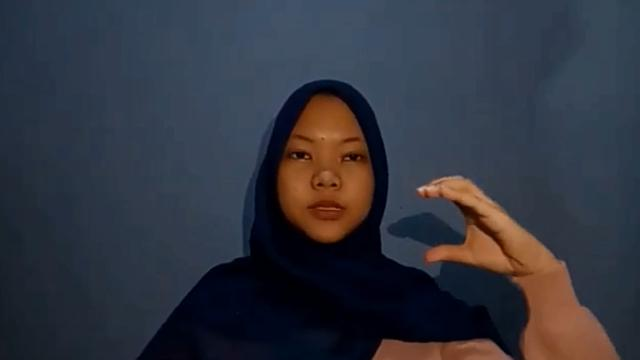C: (416, 174, 548, 270)
